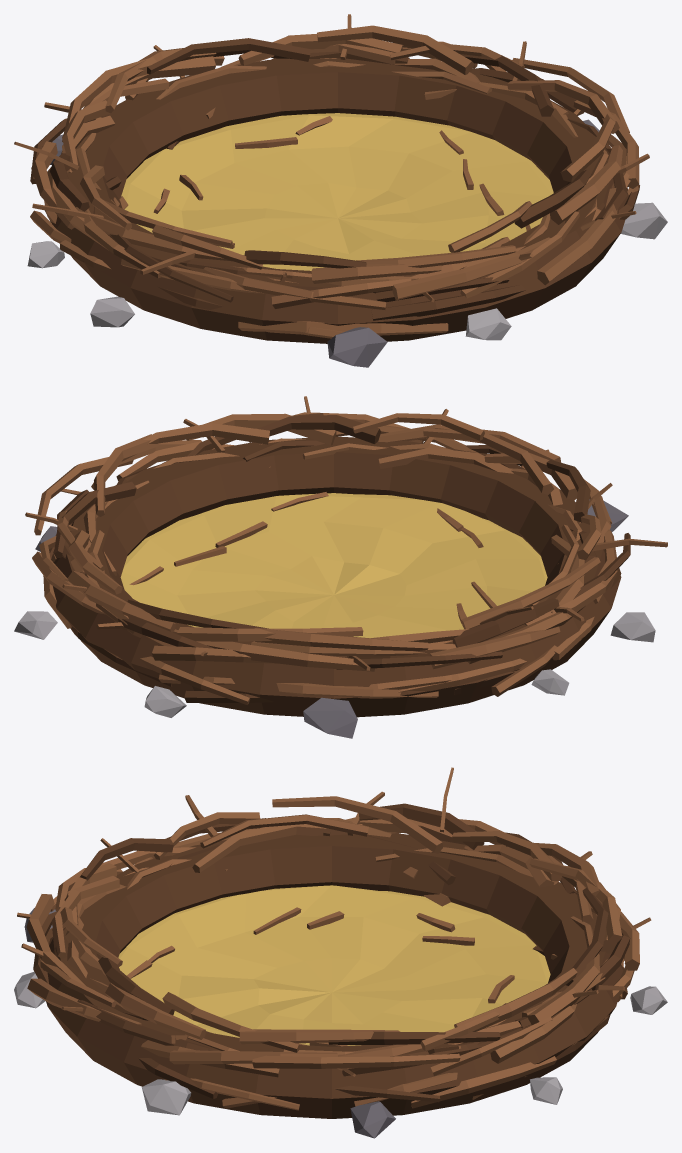
File: great_nest.glb
3 renders of one model, top to bottom at view 1: azimuth 30°, elevation 25°; view 2: azimuth 150°, elevation 25°; view 3: azimuth 270°, elevation 25°, orthographic. The views are drawn at different scales.
Parts seen in each view (by area): view 1: great_nest; view 2: great_nest; view 3: great_nest.
Boxes of the visible parts, box(x1,y1,x2,y2) form: great_nest: box(14, 14, 667, 367); great_nest: box(14, 396, 667, 738); great_nest: box(14, 767, 667, 1138).
Bounding box in the file's own units: 16.66 × 3.06 × 16.45.
